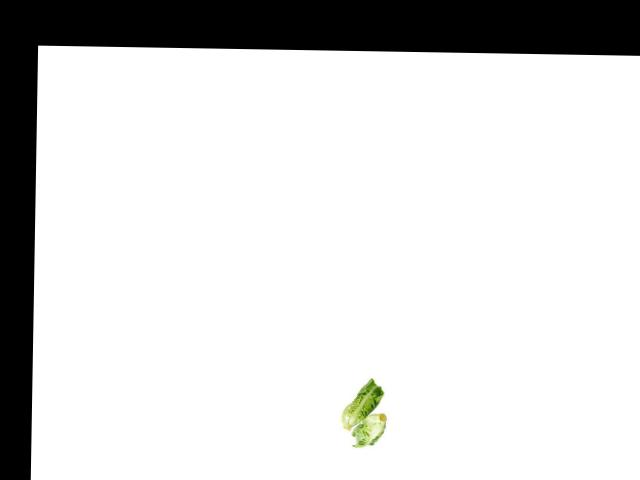lettuce: (350, 410, 392, 450)
